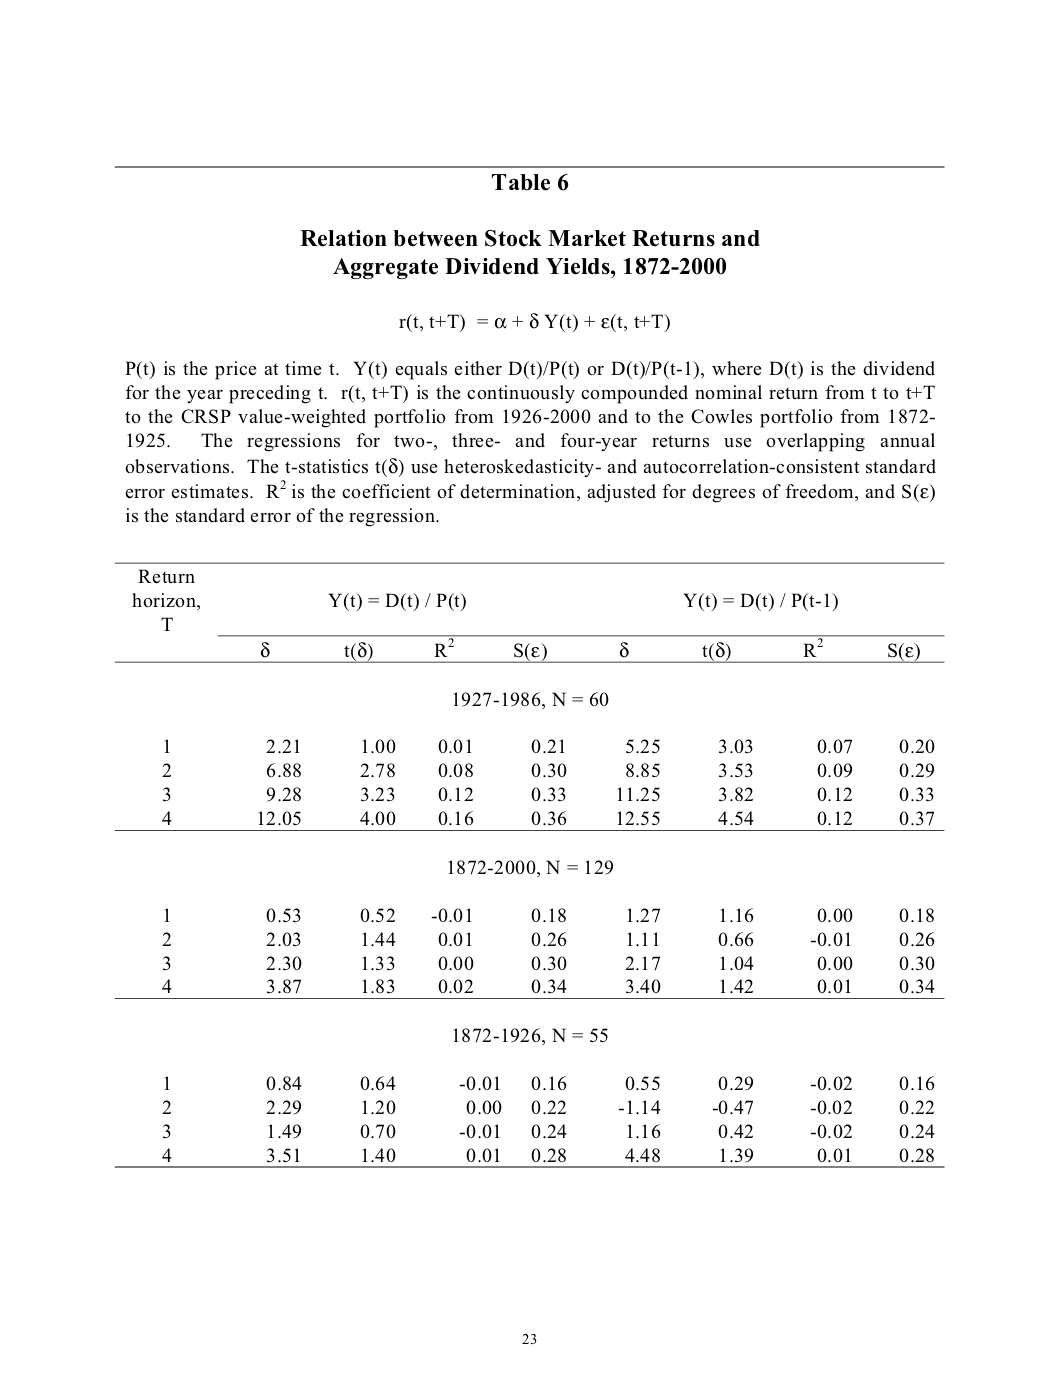Table: (114, 562, 944, 662), (114, 739, 944, 830), (114, 908, 944, 999), (114, 1077, 944, 1167)
formula: (399, 312, 669, 332), (448, 859, 613, 878), (452, 691, 609, 710), (452, 1028, 607, 1046)
